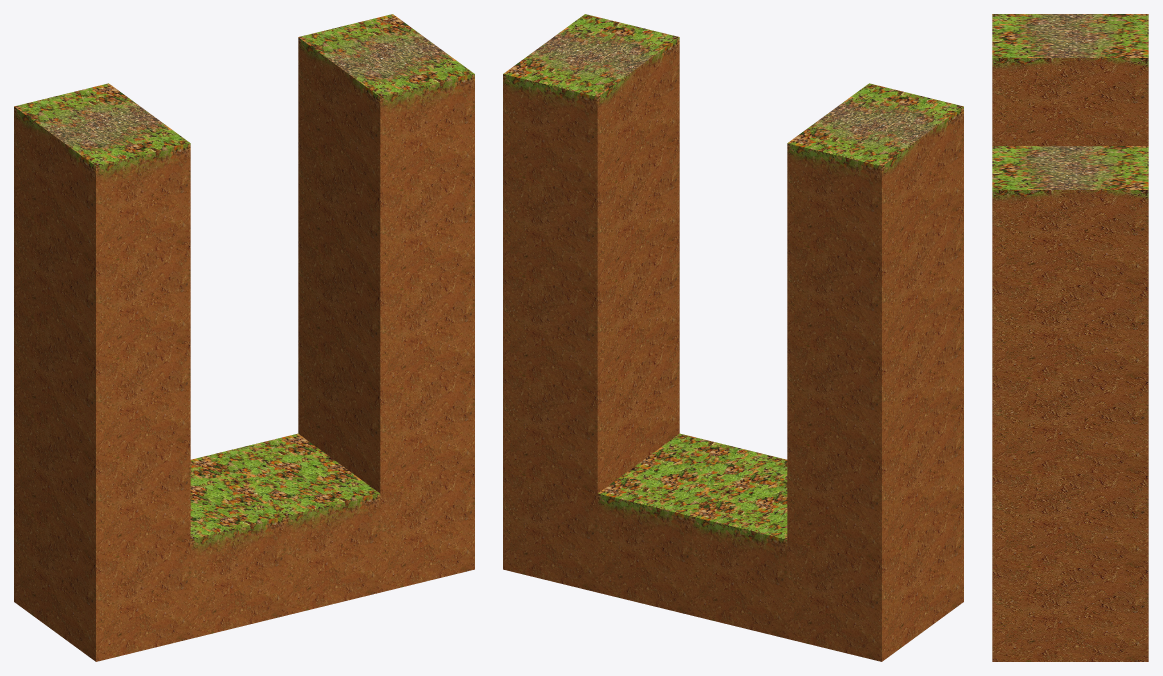
File: Hole-2.fbx
3 renders of one model, left to right at view 1: azimuth 30°, elevation 25°; view 2: azimuth 150°, elevation 25°; view 3: azimuth 270°, elevation 25°, orthographic. The views are drawn at different scales.
Visible parts, largest first — view 1: Unit_Block6, Unit_Block1, Unit_Block3, Unit_Block9, Unit_Block10, Unit_Block12, Unit_Block5, Unit_Block8, Unit_Block11, Unit_Block4, Unit_Block2, Unit_Block7; view 2: Unit_Block6, Unit_Block1, Unit_Block3, Unit_Block9, Unit_Block10, Unit_Block12, Unit_Block5, Unit_Block8, Unit_Block11, Unit_Block4, Unit_Block2, Unit_Block7; view 3: Unit_Block6, Unit_Block1, Unit_Block7, Unit_Block8, Unit_Block10, Unit_Block12.
Boxes of the visible parts, x1,y1,x2,y2 form: Unit_Block6: (298, 14, 474, 196); Unit_Block1: (14, 83, 190, 265); Unit_Block3: (14, 503, 190, 661); Unit_Block9: (14, 305, 190, 463); Unit_Block10: (298, 235, 474, 394); Unit_Block12: (298, 136, 474, 295); Unit_Block5: (14, 404, 190, 562); Unit_Block8: (298, 335, 474, 493); Unit_Block11: (14, 206, 190, 364); Unit_Block4: (204, 433, 380, 615); Unit_Block2: (190, 456, 285, 638); Unit_Block7: (380, 470, 474, 592); Unit_Block6: (503, 14, 679, 196); Unit_Block1: (787, 83, 963, 265); Unit_Block3: (787, 503, 963, 661); Unit_Block9: (787, 305, 963, 463); Unit_Block10: (503, 235, 679, 394); Unit_Block12: (503, 136, 679, 295); Unit_Block5: (787, 404, 963, 562); Unit_Block8: (503, 335, 679, 493); Unit_Block11: (787, 206, 963, 364); Unit_Block4: (597, 433, 773, 615); Unit_Block2: (692, 456, 787, 638); Unit_Block7: (503, 470, 597, 592); Unit_Block6: (992, 146, 1148, 284); Unit_Block1: (992, 14, 1148, 145); Unit_Block7: (992, 567, 1148, 661); Unit_Block8: (992, 473, 1148, 567); Unit_Block10: (992, 379, 1148, 473); Unit_Block12: (992, 284, 1148, 378).
Size of the model in its own units: 8 by 10 by 3.
